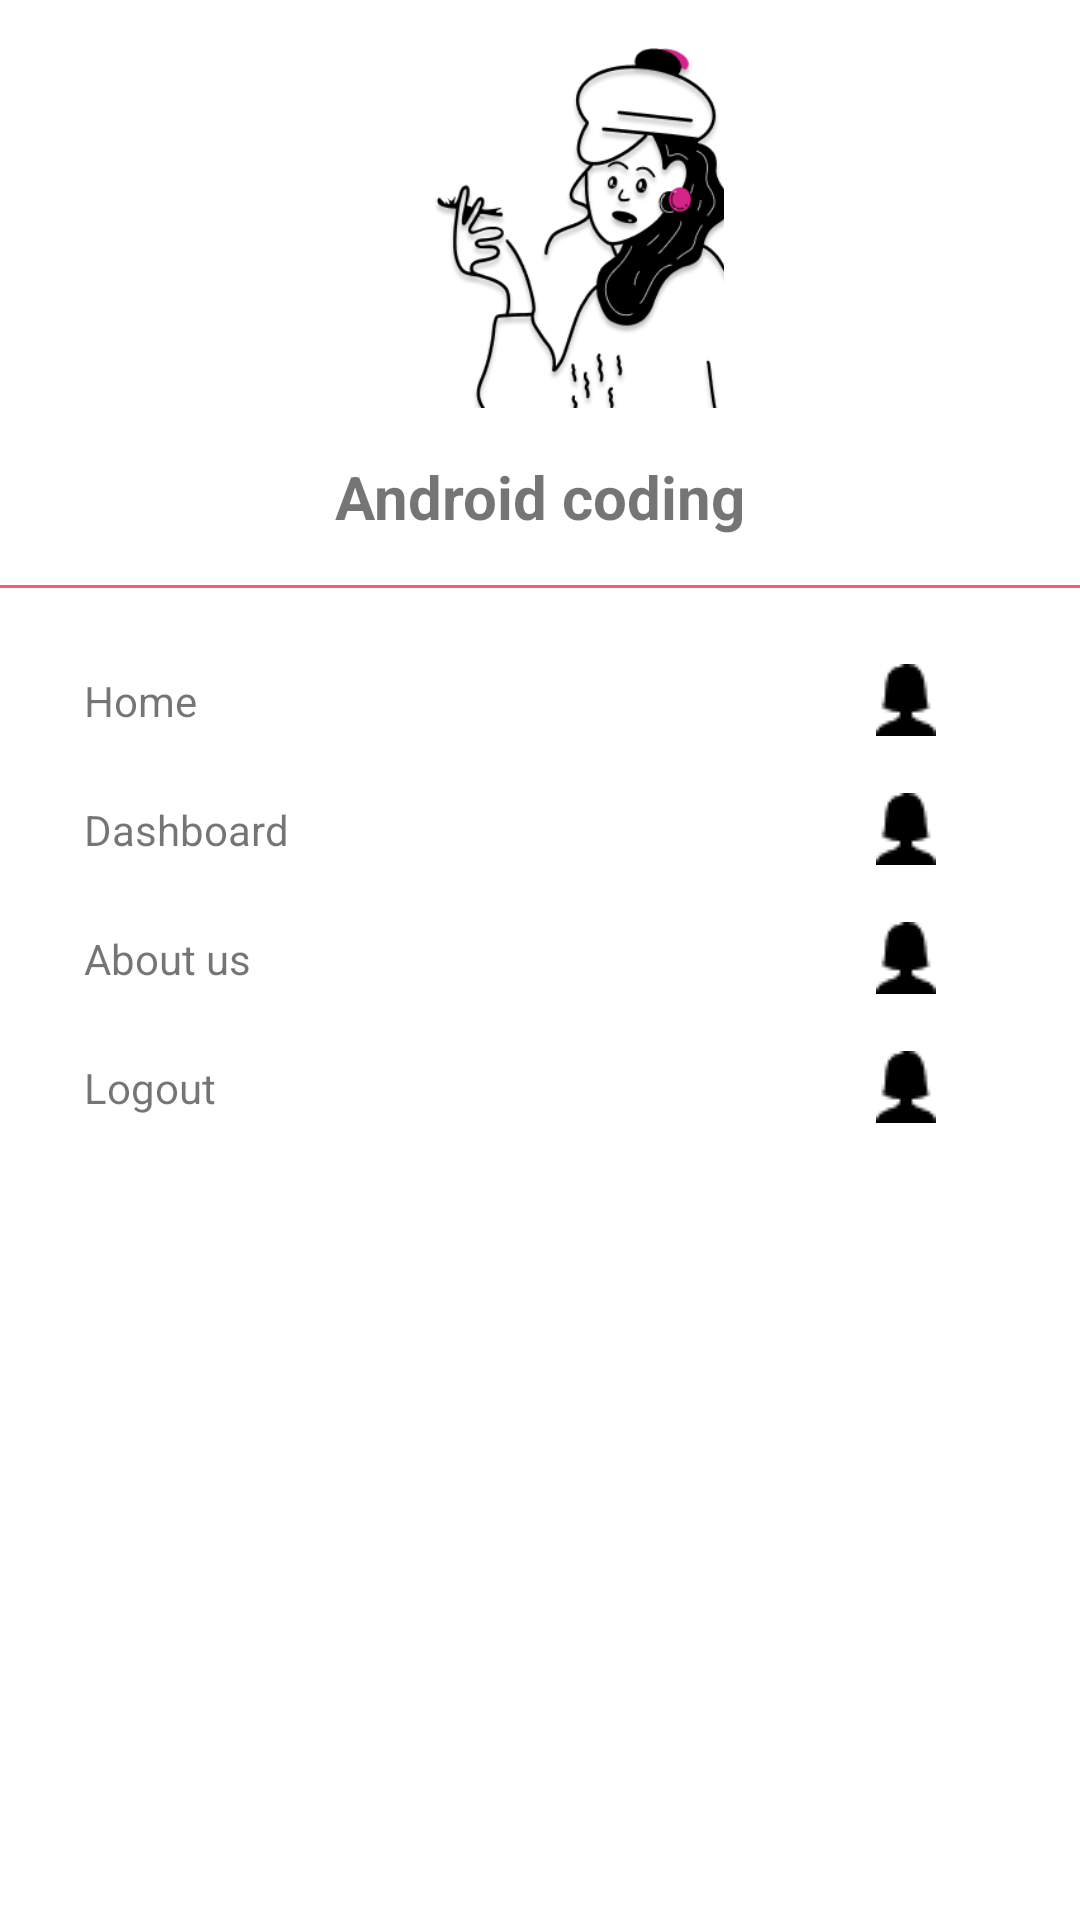

Icon click points for this 1080 × 1920 phone screenshot, format (x=x, y=y):
girl: (x=580, y=228)
